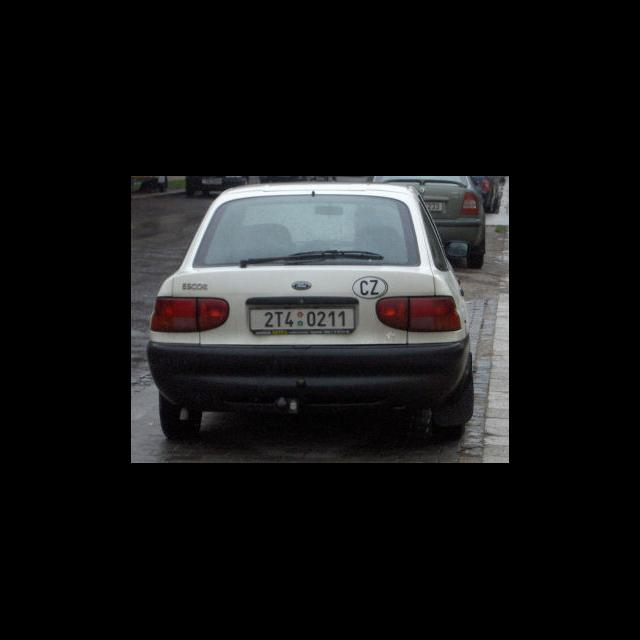Plate: (247, 304, 357, 334)
